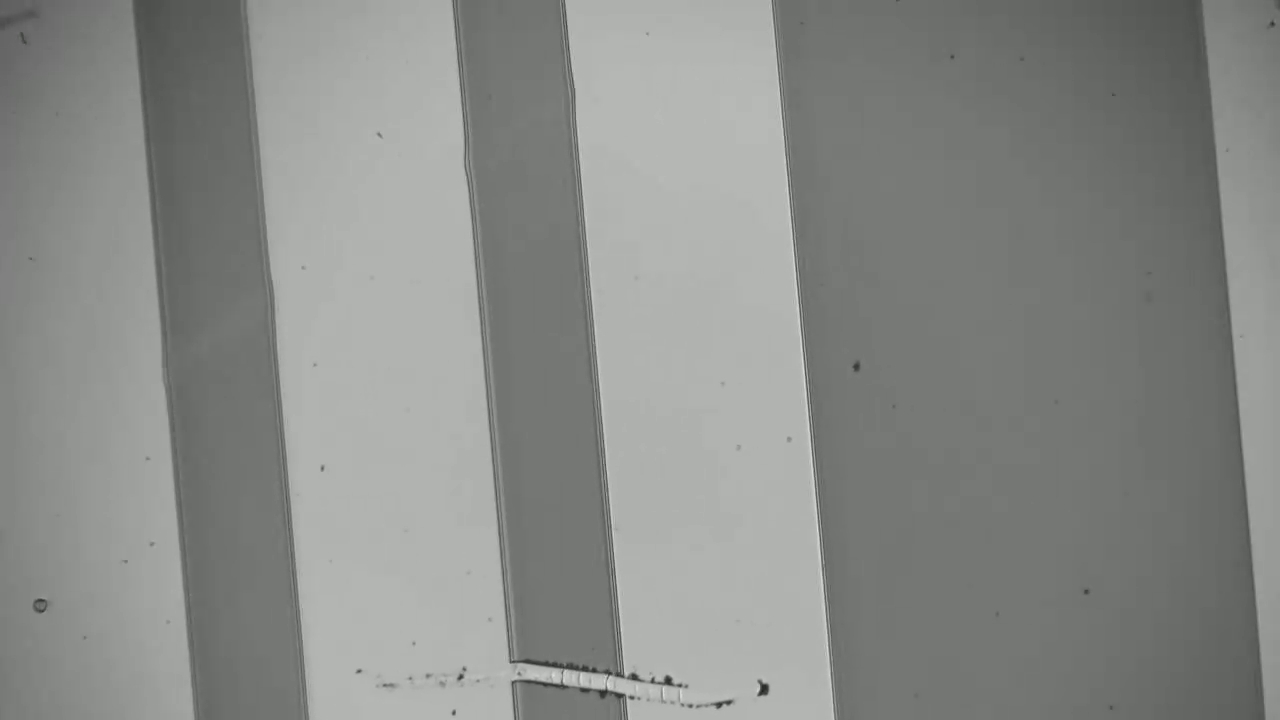Short_circuit: (490, 634, 651, 716)
